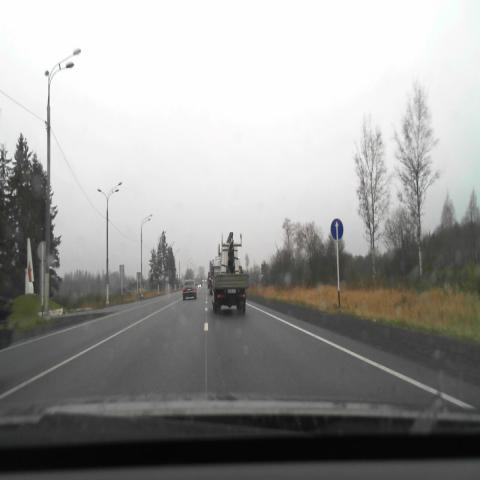4_1_1: (330, 218, 344, 241)
